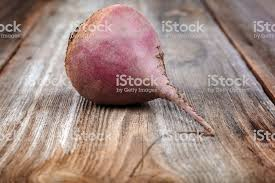beet: (65, 4, 216, 135)
